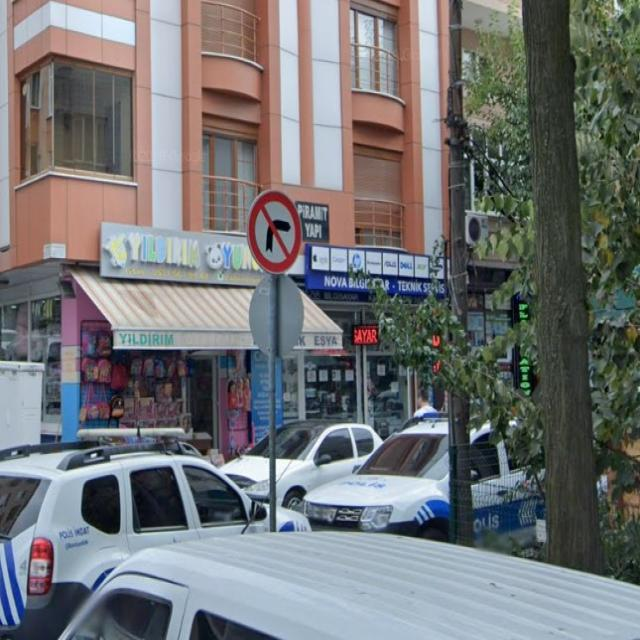sagadonulmez: (247, 190, 302, 273)
